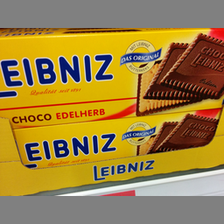chocolate: (1, 28, 223, 130), (14, 108, 223, 169)
